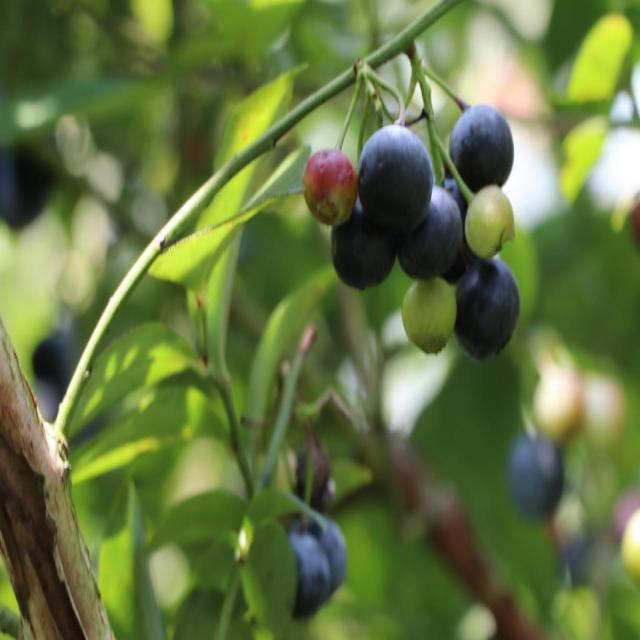blueberry: (358, 126, 433, 236), (393, 182, 461, 282), (454, 258, 518, 362), (328, 198, 394, 290), (451, 104, 512, 188), (510, 430, 564, 516), (298, 510, 350, 594), (286, 529, 332, 619)
blueberry-halfripe: (301, 149, 357, 220)
blueberry-unripe: (462, 182, 519, 264), (401, 274, 455, 353)
